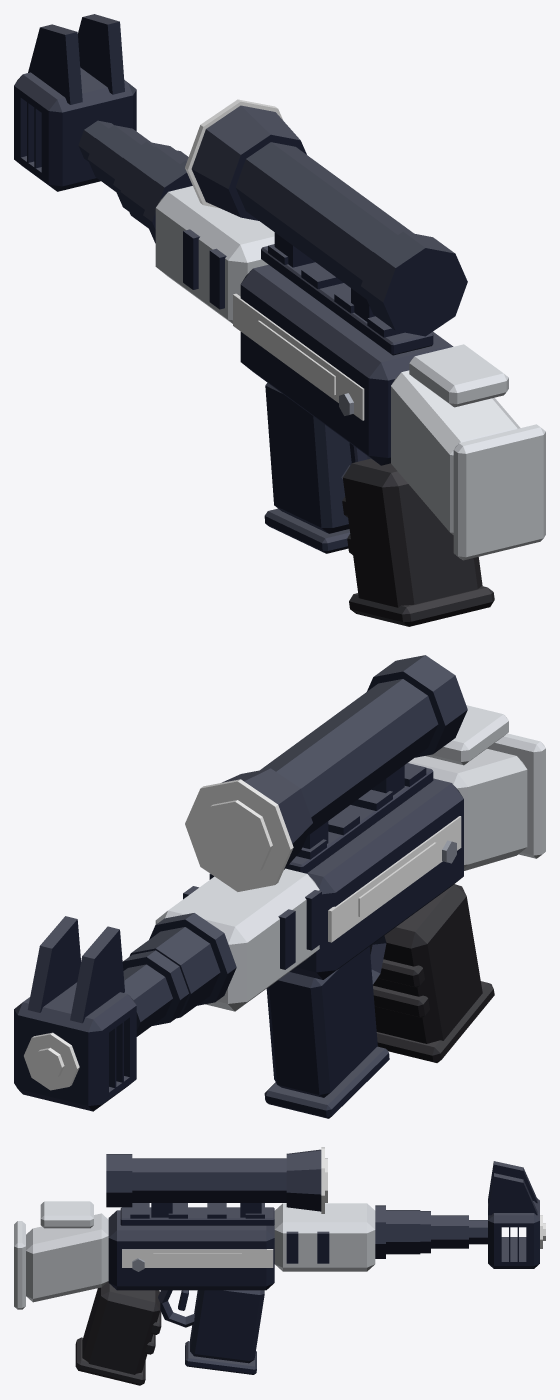
The model's file is Marksman.fbx.
3 renders of one model, top to bottom at view 1: azimuth 30°, elevation 25°; view 2: azimuth 150°, elevation 25°; view 3: azimuth 270°, elevation 25°, orthographic. The views are drawn at different scales.
Visible parts, largest first — view 1: Body, Halo_Glow, Accent_Glow; view 2: Body, Halo_Glow, Accent_Glow; view 3: Body, Halo_Glow, Accent_Glow.
Part boxes in pixels (left/top/right/bottom): Body: left=14, top=14, right=545, bottom=626; Halo_Glow: left=185, top=99, right=364, bottom=420; Accent_Glow: left=258, top=320, right=335, bottom=395; Body: left=14, top=655, right=545, bottom=1118; Halo_Glow: left=24, top=779, right=461, bottom=1090; Accent_Glow: left=34, top=800, right=436, bottom=1078; Body: left=14, top=1149, right=539, bottom=1385; Halo_Glow: left=122, top=1147, right=542, bottom=1267; Accent_Glow: left=153, top=1158, right=545, bottom=1264.
Size of the model in its own units: 0.61 by 2.1 by 4.49.
